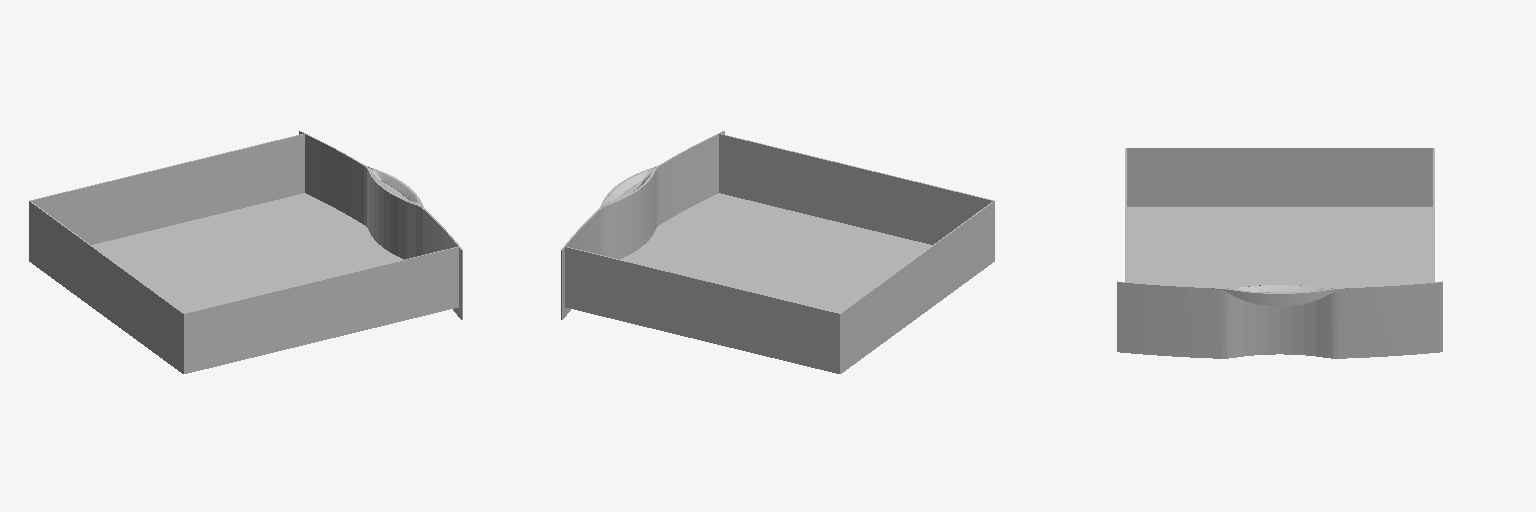
File: tray.obj
The picture shows the model from 3 angles: view 1: azimuth 30°, elevation 25°; view 2: azimuth 150°, elevation 25°; view 3: azimuth 270°, elevation 25°; orthographic projection.
Visible parts, largest first — view 1: tray; view 2: tray; view 3: tray.
Part boxes in pixels (left/top/right/bottom): tray: left=29, top=131, right=462, bottom=373; tray: left=561, top=131, right=994, bottom=373; tray: left=1117, top=148, right=1442, bottom=358.
Bounding box in the file's own units: 0.3545 × 0.0794 × 0.3341.